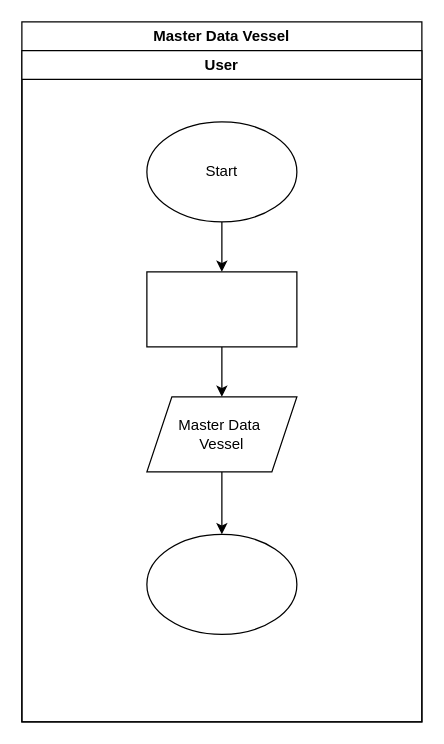
This 444x744 diagram has some shape labels left out. Here are the shapes that lost their labels. From the top down, the centre of each, then its label:
At (x=221, y=309): "Create Master Data Vessel".
At (x=221, y=583): "End".
